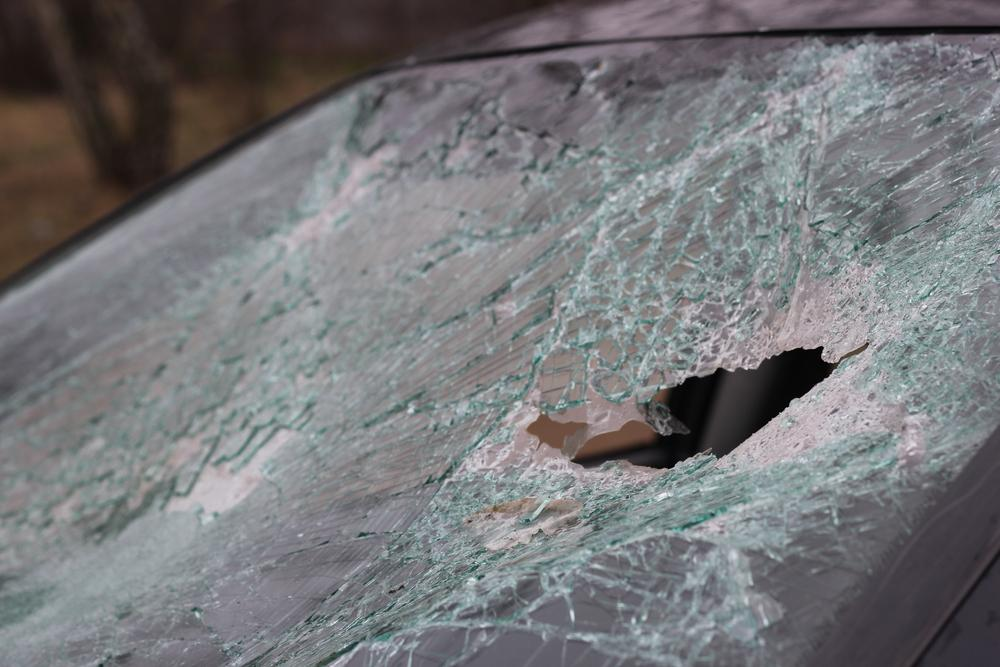glass shatter: (0, 33, 1000, 667)
